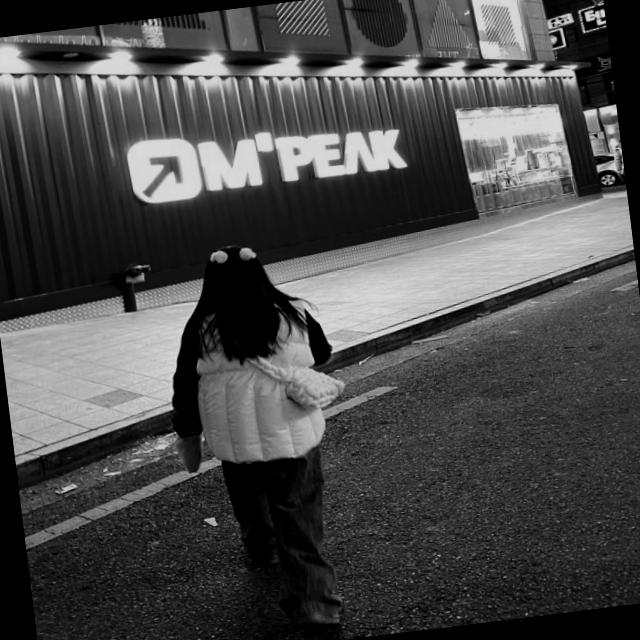denimpants: (217, 437, 348, 623)
padding: (182, 290, 332, 471)
